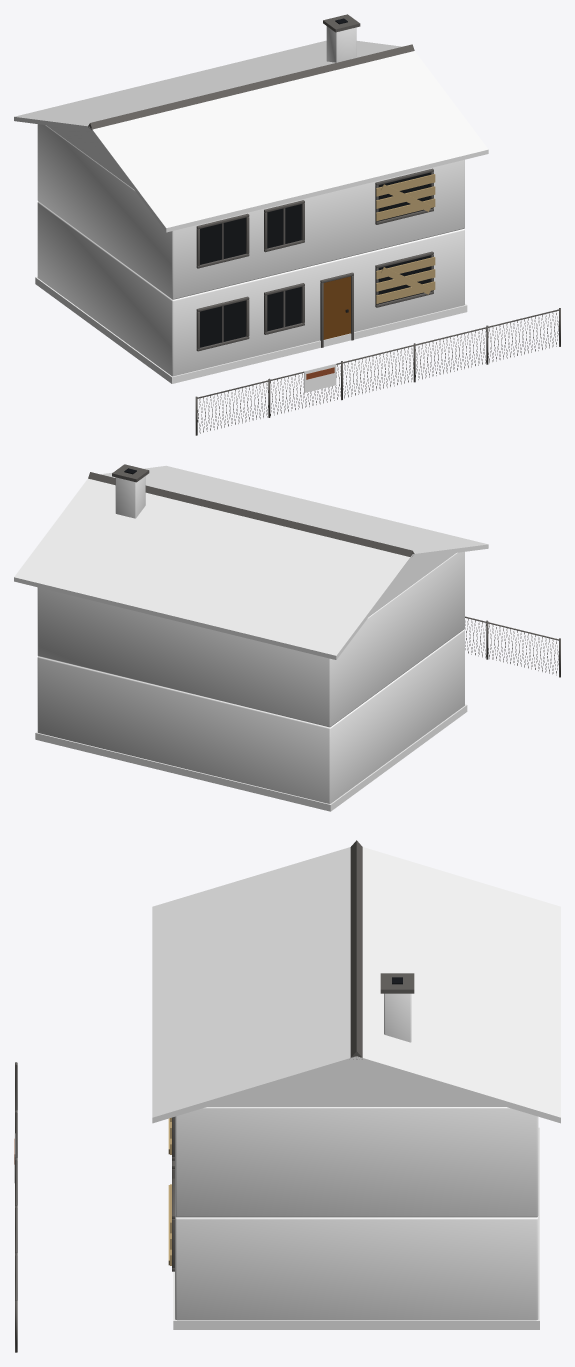
File: bld_ranch_plain_2s.glb
3 renders of one model, top to bottom at view 1: azimuth 30°, elevation 25°; view 2: azimuth 150°, elevation 25°; view 3: azimuth 270°, elevation 25°, orthographic. The views are drawn at different scales.
Visible parts, largest first — view 1: rp_roof_front, rp_walls_s2, rp_walls, rp_roof_back, rp_footing, rp_roof_cap, rp_win0, rp_win0_s2, rp_door, rp_win1_s2, rp_win1, rp_roof_gable (+5 smaller); view 2: rp_roof_back, rp_walls, rp_walls_s2, rp_roof_front, rp_footing, rp_roof_cap, rp_roof_gable, rp_chim; view 3: rp_roof_front, rp_roof_back, rp_walls_s2, rp_walls, rp_roof_gable, rp_footing, rp_roof_cap, rp_chim, rp_fence_rail, rp_chim_cap.
Boxes of the visible parts, bbox=[...] form: rp_roof_front: bbox=[90, 51, 488, 232]; rp_walls_s2: bbox=[37, 124, 464, 299]; rp_walls: bbox=[37, 202, 464, 376]; rp_roof_back: bbox=[14, 40, 401, 130]; rp_footing: bbox=[35, 276, 467, 383]; rp_roof_cap: bbox=[88, 44, 414, 129]; rp_win0: bbox=[200, 300, 245, 347]; rp_win0_s2: bbox=[200, 217, 245, 264]; rp_door: bbox=[323, 276, 350, 339]; rp_win1_s2: bbox=[267, 204, 301, 248]; rp_win1: bbox=[267, 287, 301, 331]; rp_roof_gable: bbox=[47, 125, 133, 188]; rp_roof_back: bbox=[14, 478, 412, 659]; rp_walls: bbox=[37, 629, 464, 803]; rp_walls_s2: bbox=[37, 552, 464, 727]; rp_roof_front: bbox=[101, 465, 488, 558]; rp_footing: bbox=[35, 704, 467, 811]; rp_roof_cap: bbox=[88, 472, 414, 556]; rp_roof_gable: bbox=[369, 553, 455, 616]; rp_chim: bbox=[115, 476, 145, 518]; rp_roof_front: bbox=[152, 847, 356, 1123]; rp_roof_back: bbox=[356, 847, 560, 1123]; rp_walls_s2: bbox=[175, 1107, 538, 1217]; rp_walls: bbox=[175, 1216, 538, 1320]; rp_roof_gable: bbox=[208, 1062, 505, 1106]; rp_footing: bbox=[173, 1127, 539, 1329]; rp_roof_cap: bbox=[350, 840, 362, 1059]; rp_chim: bbox=[384, 993, 411, 1042]; rp_fence_rail: bbox=[15, 1064, 17, 1300]; rp_chim_cap: bbox=[380, 973, 414, 993].
Bounding box in the file's own units: 12.46 × 7.83 × 12.05.
